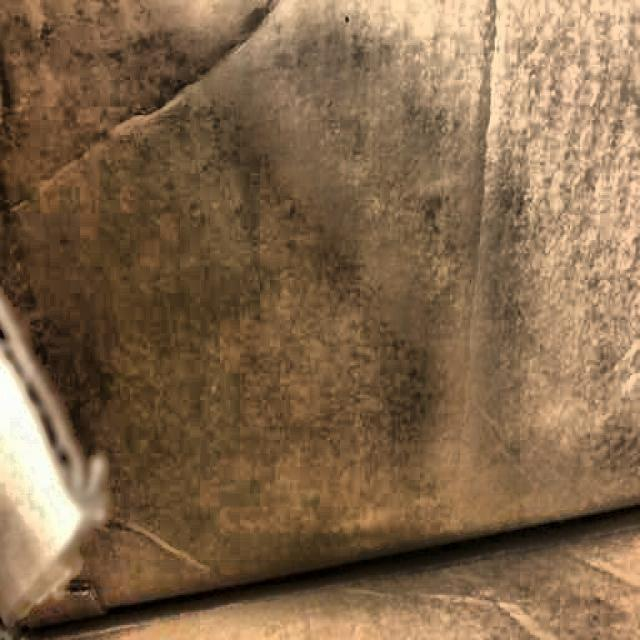cardboard: (2, 5, 636, 640)
